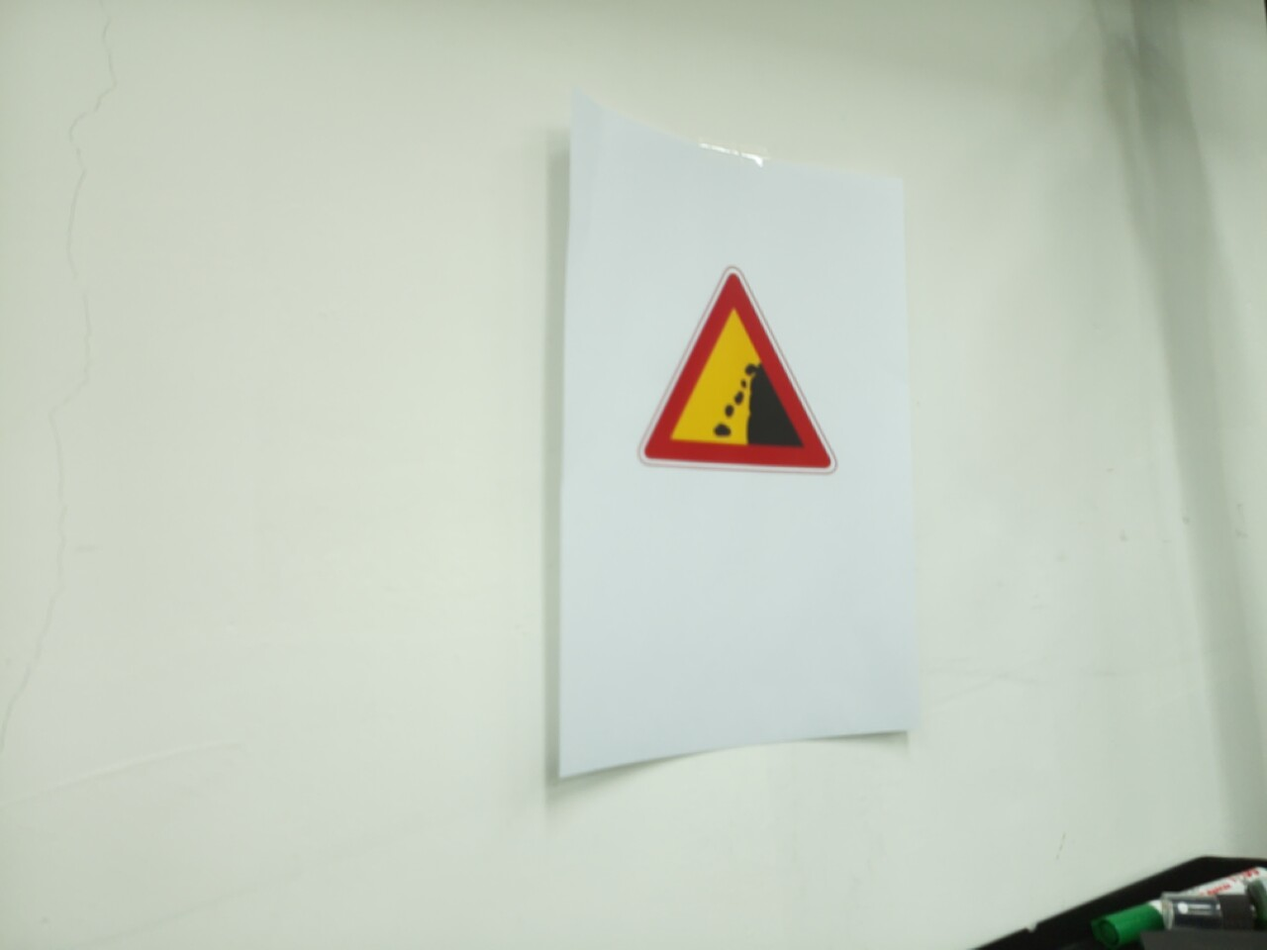falling_rocks: (637, 265, 838, 476)
